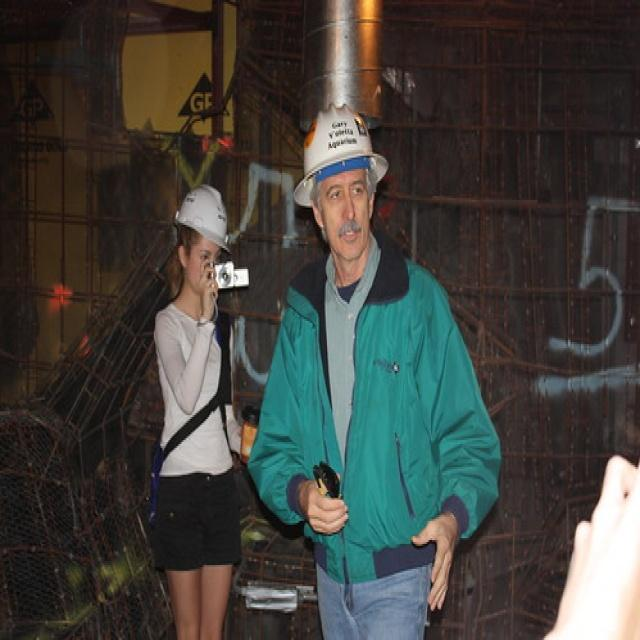helmet: (297, 128, 385, 236), (171, 239, 231, 336)
